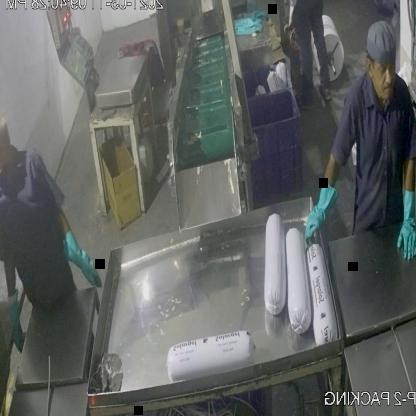glove: (57, 216, 110, 296), (301, 168, 337, 250), (392, 172, 416, 272), (4, 284, 32, 354)
